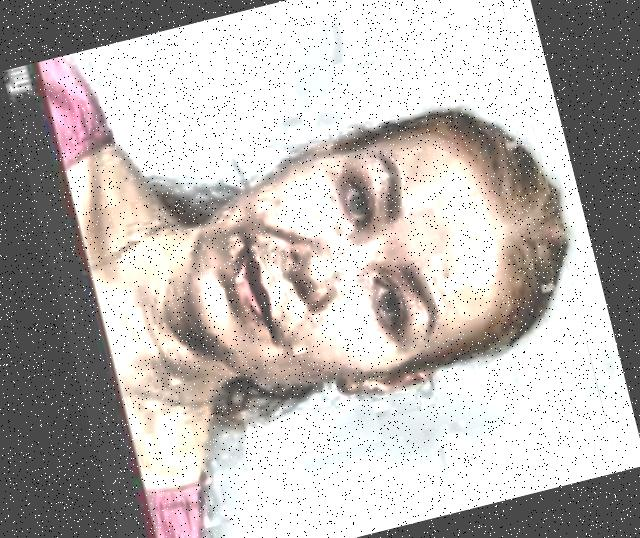neutral: (151, 82, 585, 440)
